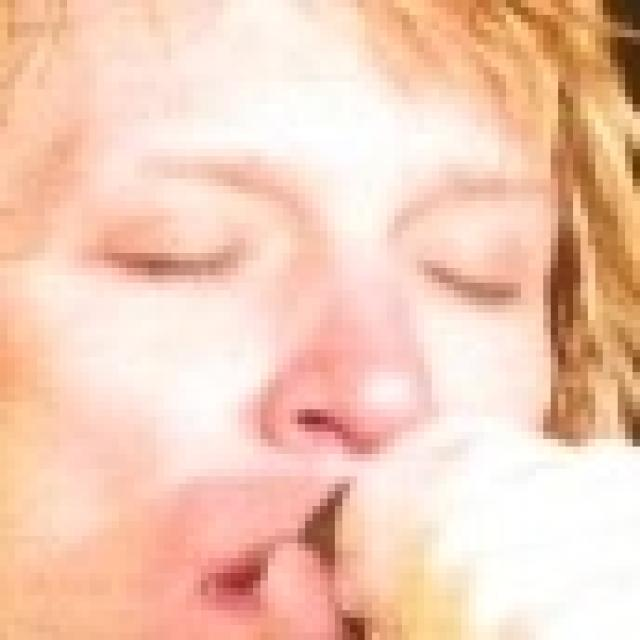Eyeclosed: (110, 226, 234, 283)
